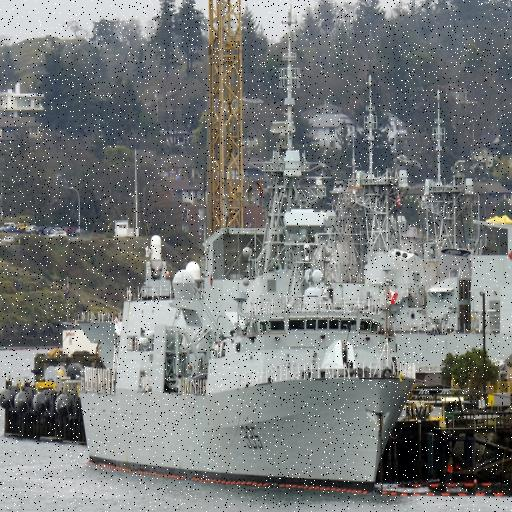Fragata: (74, 177, 419, 497)
